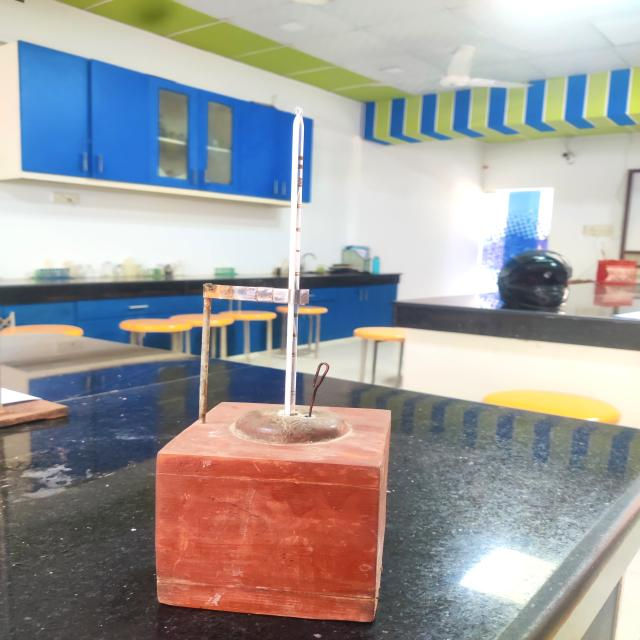Calorimeter: (128, 80, 444, 640)
